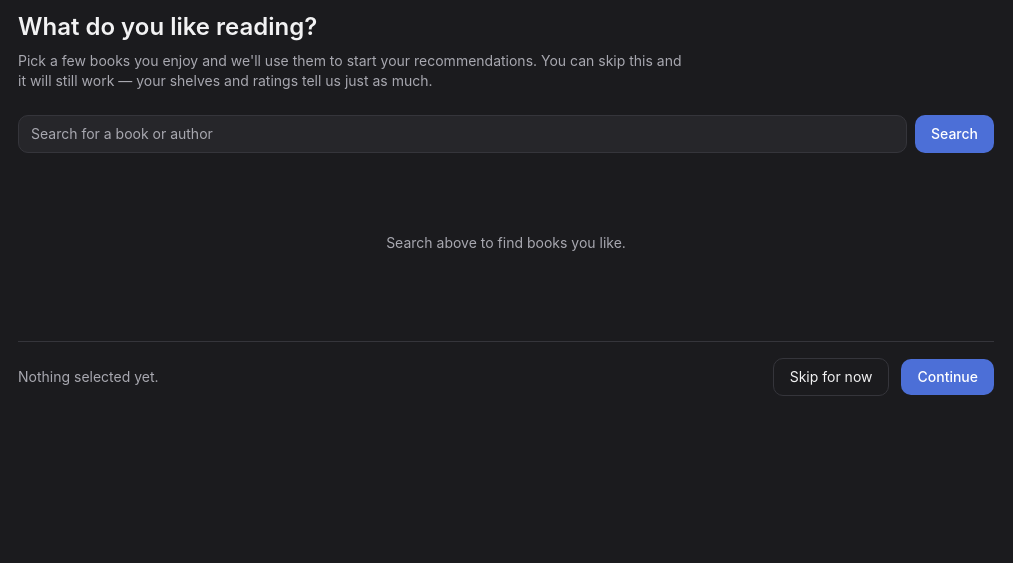
Scenario: OnboardingPage › offers a retry when search fails
Type "dune" into the search field named "Search for books or authors". click: (462, 134)
box: left=18, top=115, right=907, bottom=153
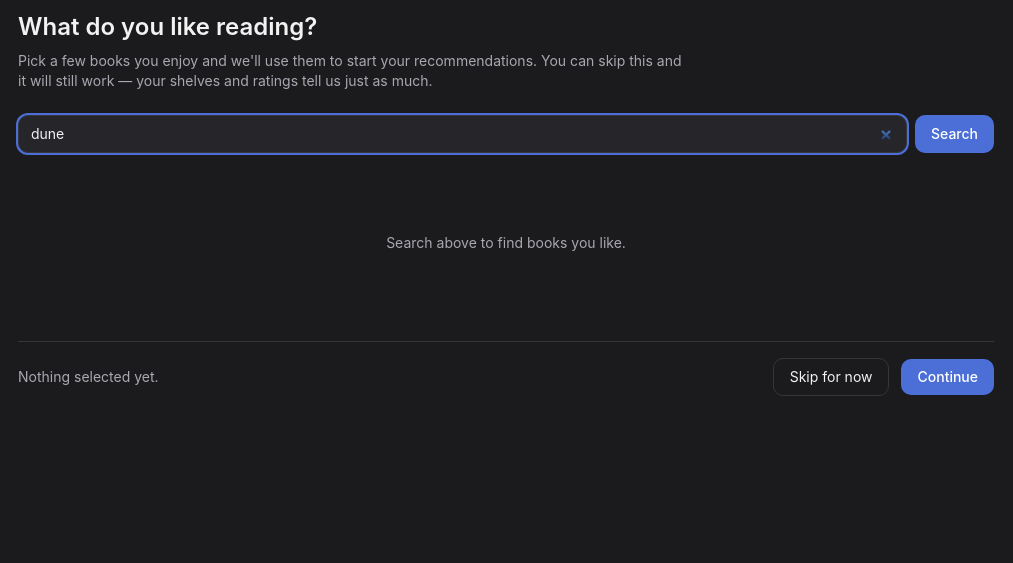
Click the button "Search". click: (954, 134)
box: left=915, top=115, right=994, bottom=153
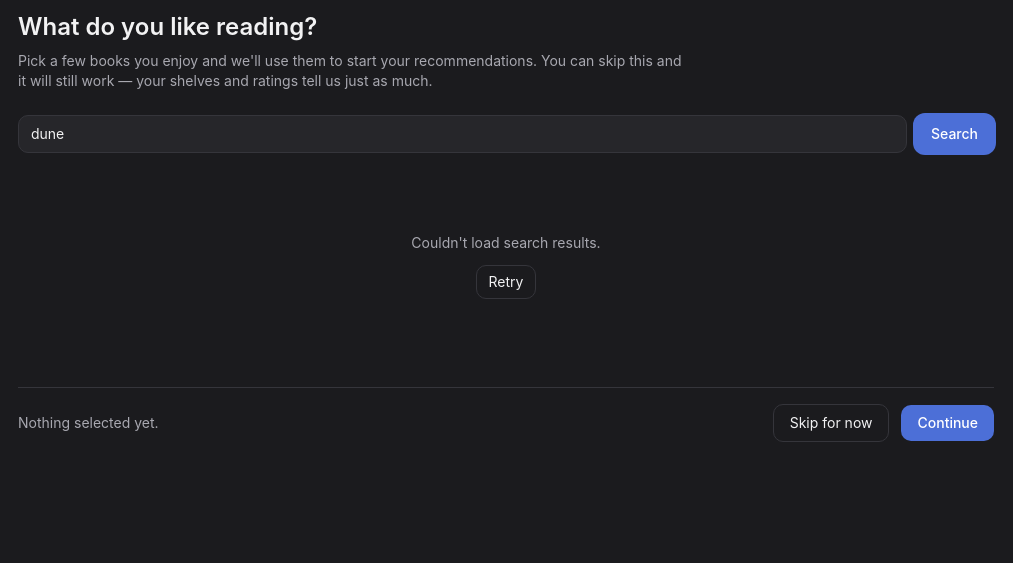
Click the button "Retry". click: (506, 282)
box: left=476, top=265, right=536, bottom=299
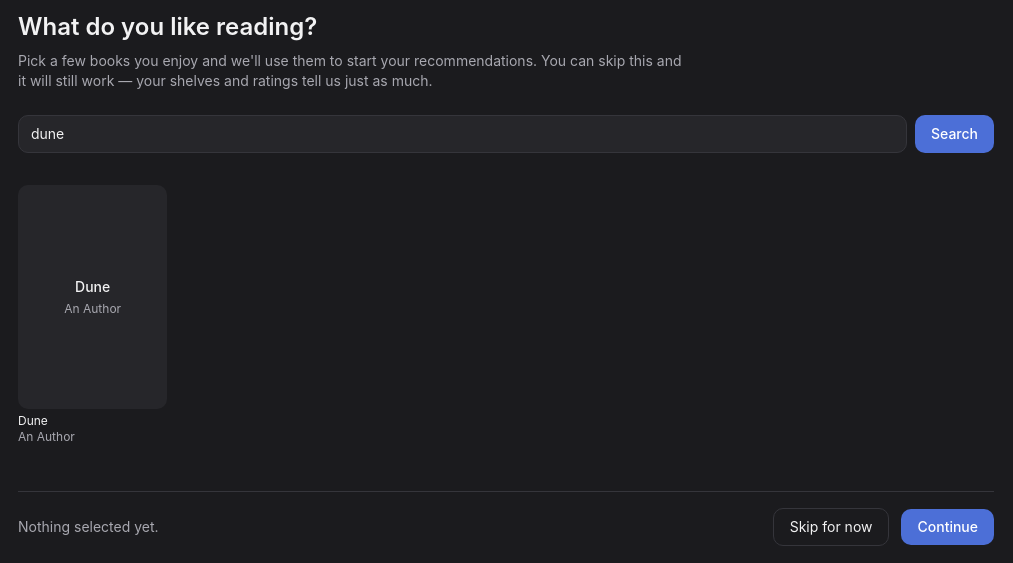
Now the button "Dune An Author Dune An Author" is shown, box left=18, top=185, right=167, bottom=445
